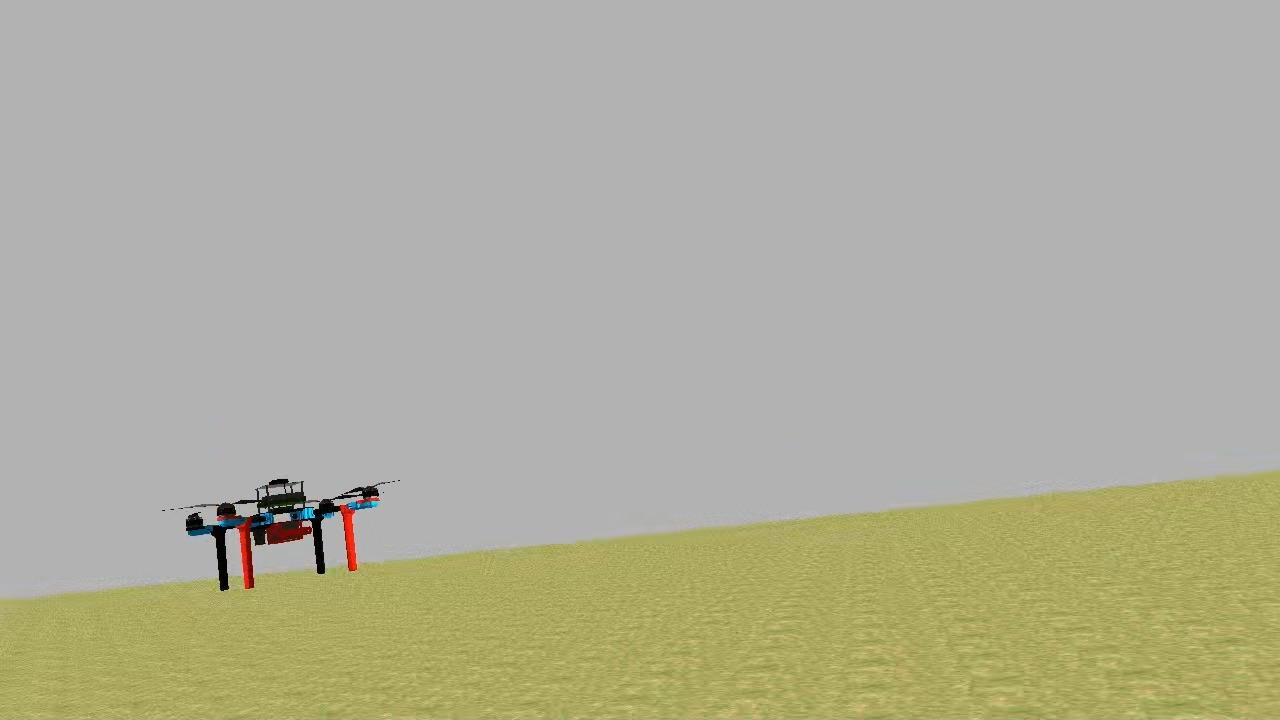UAV: (180, 472, 386, 592)
